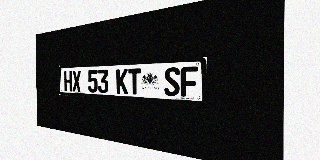3: (98, 69, 108, 93)
5: (88, 70, 98, 93)
F: (180, 66, 198, 97)
H: (64, 71, 72, 92)
K: (116, 69, 128, 94)
S: (164, 67, 180, 96)
T: (128, 68, 141, 95)
X: (72, 70, 81, 92)
